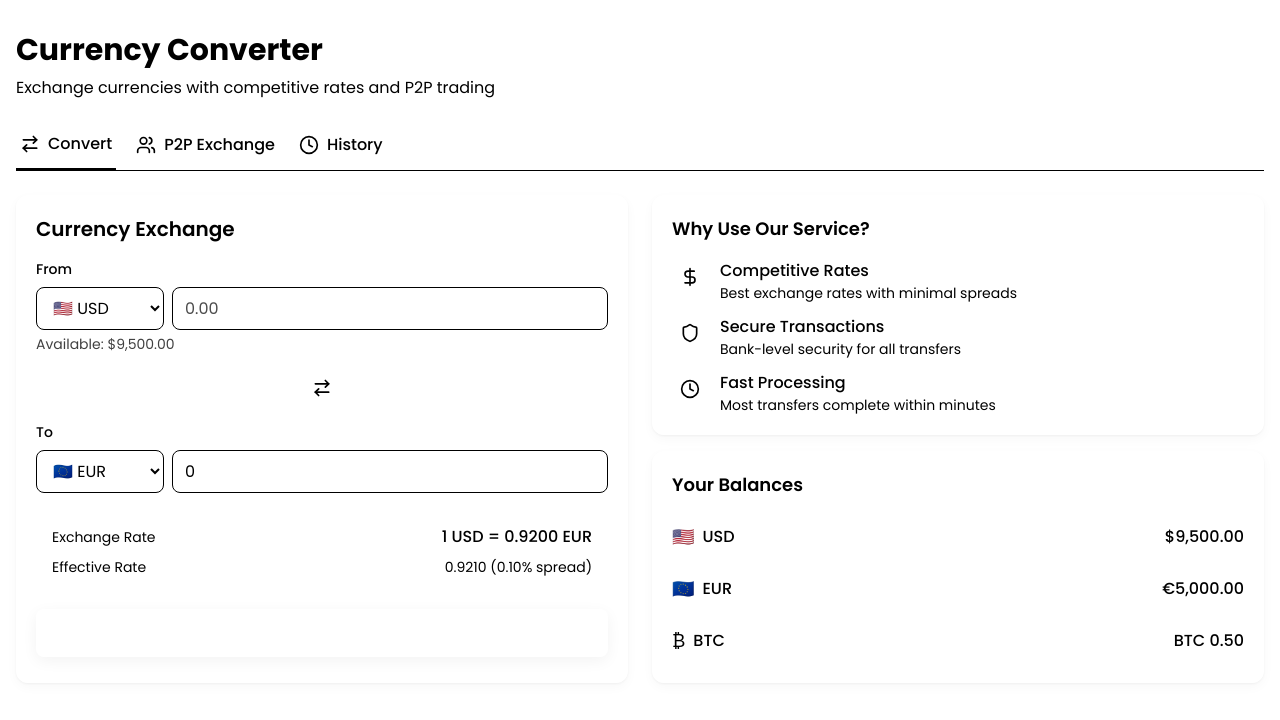
CurrencyConverterPage › history tab displays transactions
This screenshot has width=1280, height=720.
// Navigate to History tab
Click the button "History" at x=341, y=151, box [295,132,387,170]
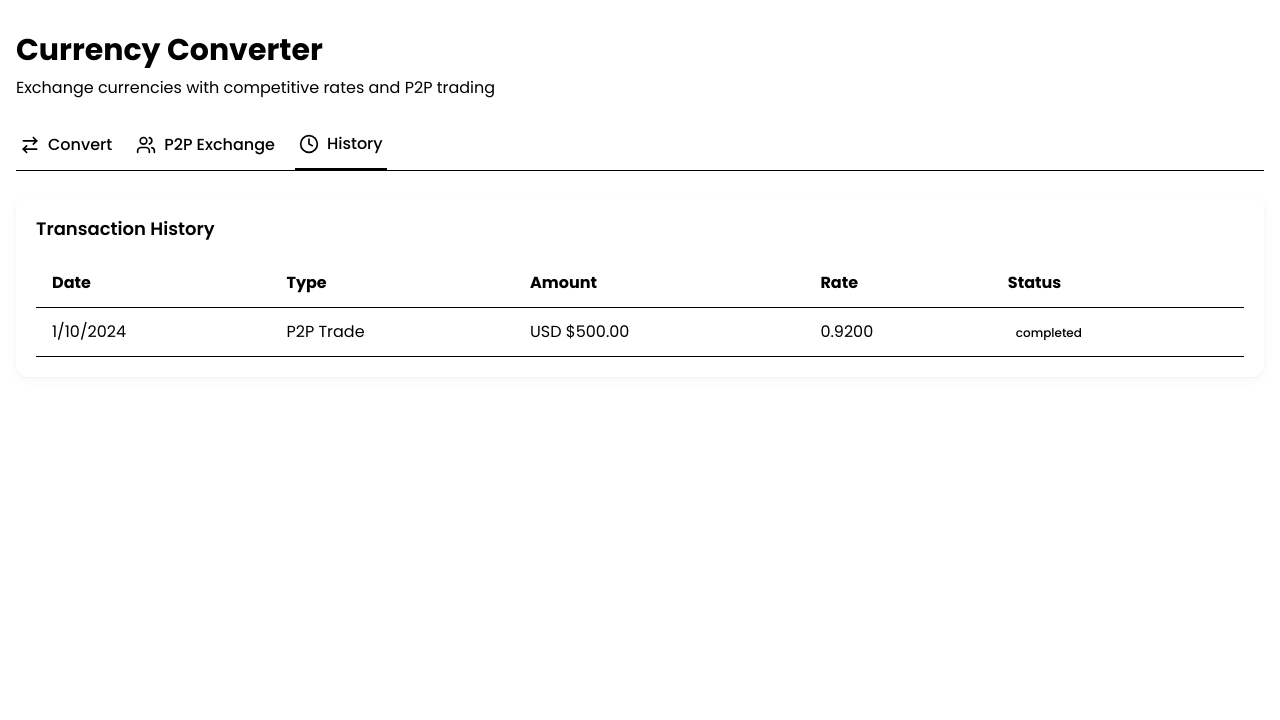
Expected: the heading "Transaction History" is shown, [36,216,215,241]
Expected: the text "P2P Trade" is shown, [270,308,514,356]
Expected: the text "USD $500.00" is shown, [514,308,804,356]
